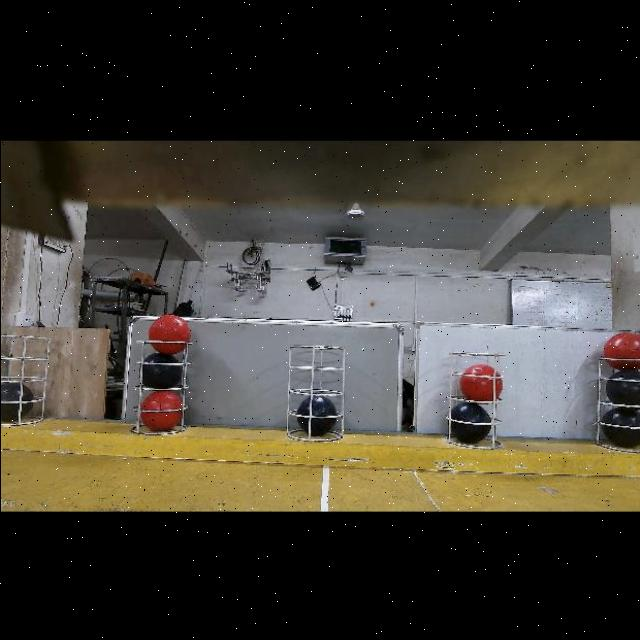P: (450, 402, 491, 443), (600, 407, 640, 448), (296, 395, 335, 436), (138, 352, 181, 388), (605, 369, 640, 405), (0, 382, 33, 420)
R: (147, 314, 189, 354), (459, 364, 502, 401), (141, 391, 180, 430), (603, 332, 640, 370)
S: (286, 346, 344, 450), (443, 351, 502, 452), (124, 345, 190, 435), (590, 357, 640, 448), (46, 334, 49, 338)
